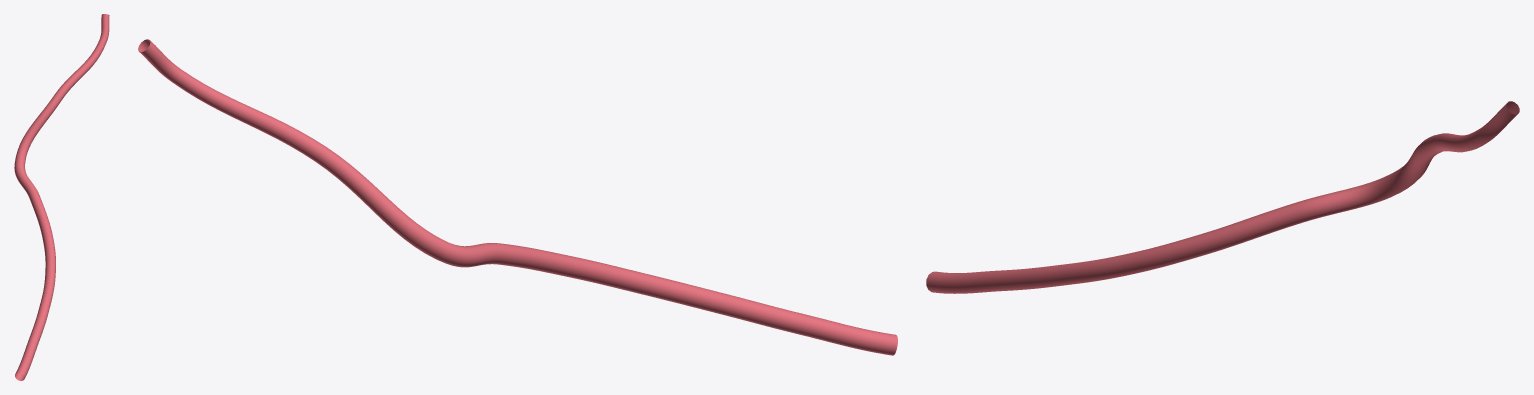
The picture shows the model from 3 angles, left to right: view 1: azimuth 30°, elevation 25°; view 2: azimuth 150°, elevation 25°; view 3: azimuth 270°, elevation 25°; orthographic projection. The views are drawn at different scales.
Parts seen in each view (by area): view 1: ZA_6a4452f2c30f1950; view 2: ZA_6a4452f2c30f1950; view 3: ZA_6a4452f2c30f1950.
Boxes of the visible parts, x1,y1,x2,y2 form: ZA_6a4452f2c30f1950: (14, 14, 109, 380); ZA_6a4452f2c30f1950: (138, 39, 897, 355); ZA_6a4452f2c30f1950: (926, 101, 1519, 293).
Size of the model in its own units: 0.0514 by 0.0428 by 0.0558.
